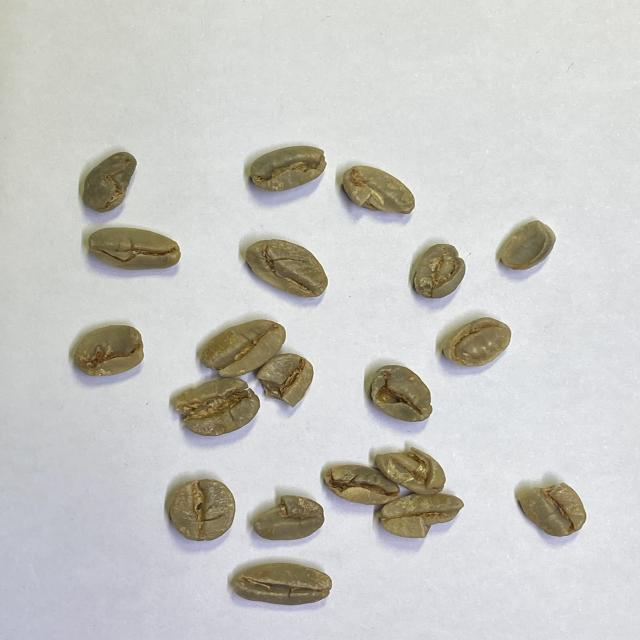bad: (159, 473, 241, 548), (169, 375, 262, 439), (244, 236, 332, 302), (227, 559, 336, 610), (84, 223, 185, 274), (374, 489, 468, 542), (514, 478, 592, 540), (340, 163, 423, 219), (368, 363, 438, 427), (440, 314, 515, 373), (71, 322, 147, 380), (78, 147, 142, 215), (372, 444, 448, 500), (247, 143, 329, 192), (320, 460, 403, 508), (258, 341, 321, 402), (252, 494, 328, 544), (407, 240, 469, 301), (494, 218, 560, 273)
good: (197, 317, 288, 380)
